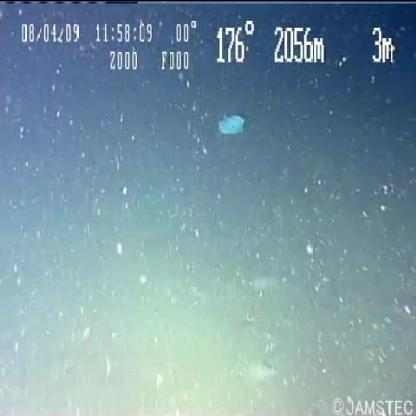Rác: (204, 102, 261, 146)
